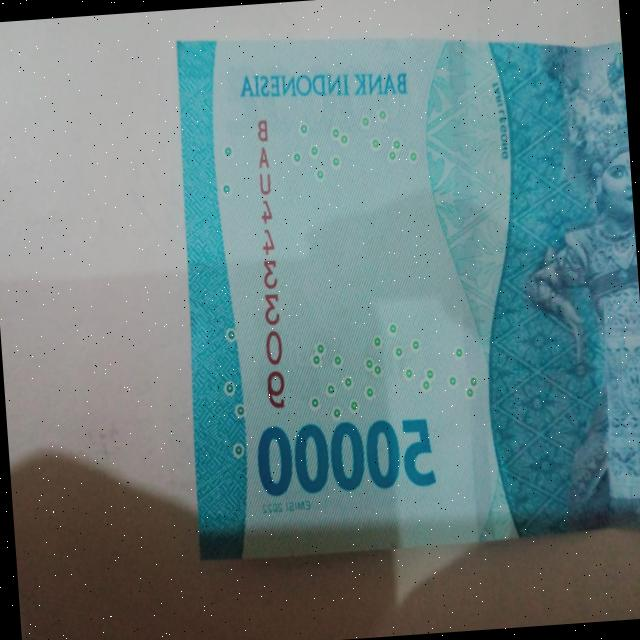50K: (155, 3, 640, 578)
